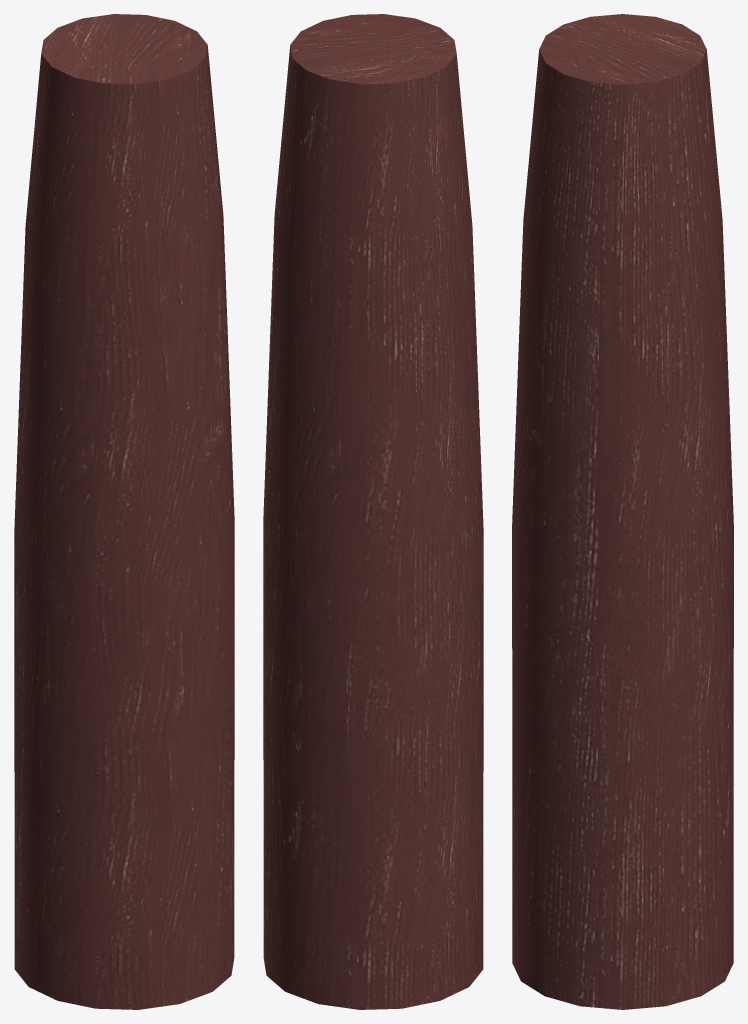
The model's file is SM_Geumsan_Mi_Pillar_A.fbx.
3 renders of one model, left to right at view 1: azimuth 30°, elevation 25°; view 2: azimuth 150°, elevation 25°; view 3: azimuth 270°, elevation 25°, orthographic.
Visible parts, largest first — view 1: SM_Geumsan_Mi_Pillar_A; view 2: SM_Geumsan_Mi_Pillar_A; view 3: SM_Geumsan_Mi_Pillar_A.
Boxes of the visible parts, box(x1,y1,x2,y2) form: SM_Geumsan_Mi_Pillar_A: box(14, 14, 234, 1009); SM_Geumsan_Mi_Pillar_A: box(263, 14, 483, 1009); SM_Geumsan_Mi_Pillar_A: box(512, 14, 733, 1009).
Size of the model in its own units: 90.19 by 410 by 90.19.
